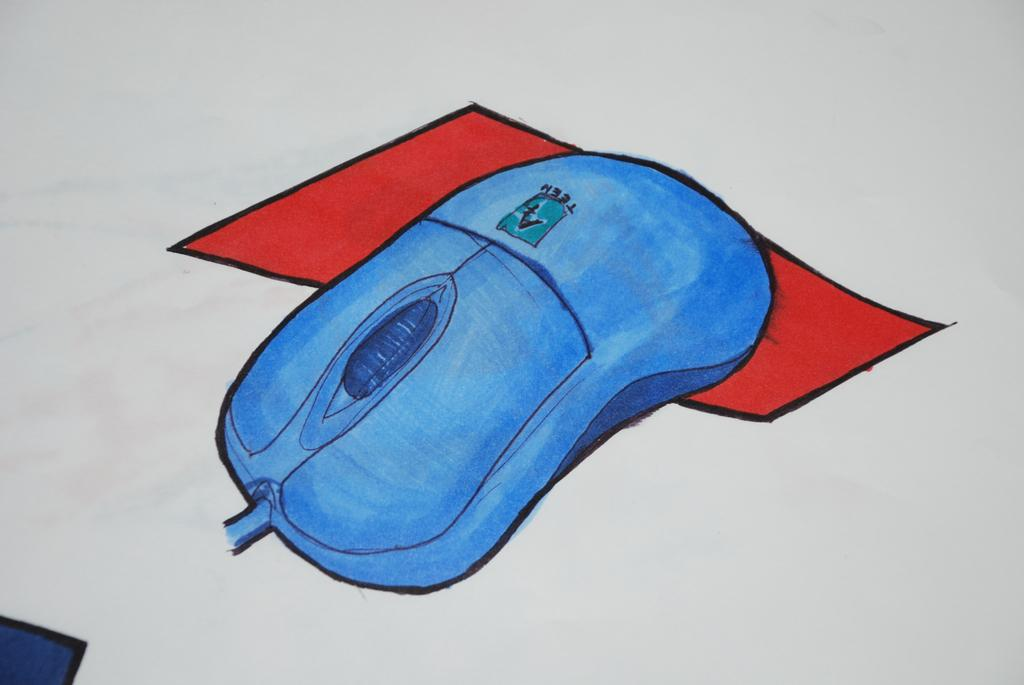Computer-mouse: (216, 148, 775, 588)
